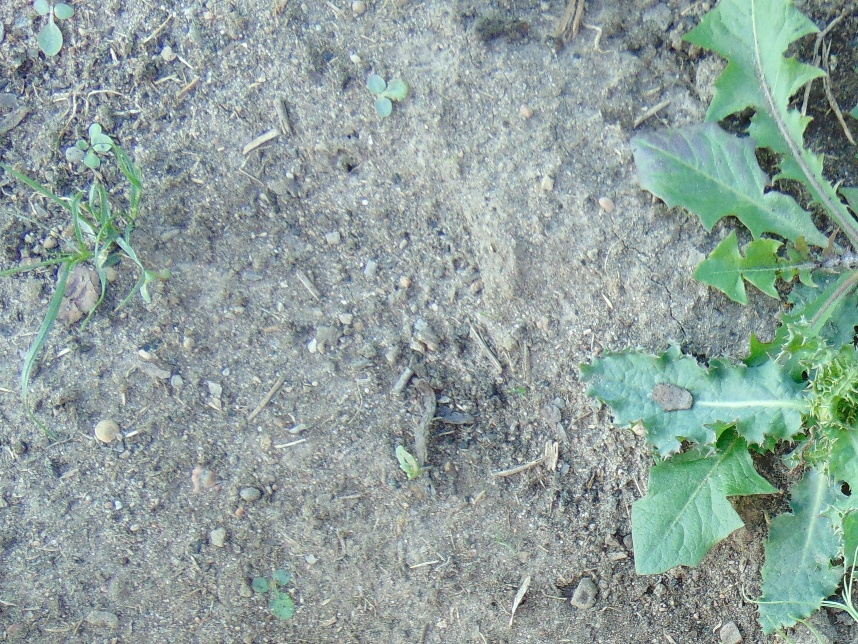crop: (822, 580, 858, 628)
weed: (587, 262, 858, 627), (633, 1, 858, 307), (43, 172, 144, 327), (32, 1, 78, 54), (77, 122, 113, 167), (369, 72, 405, 117), (257, 570, 293, 615)
